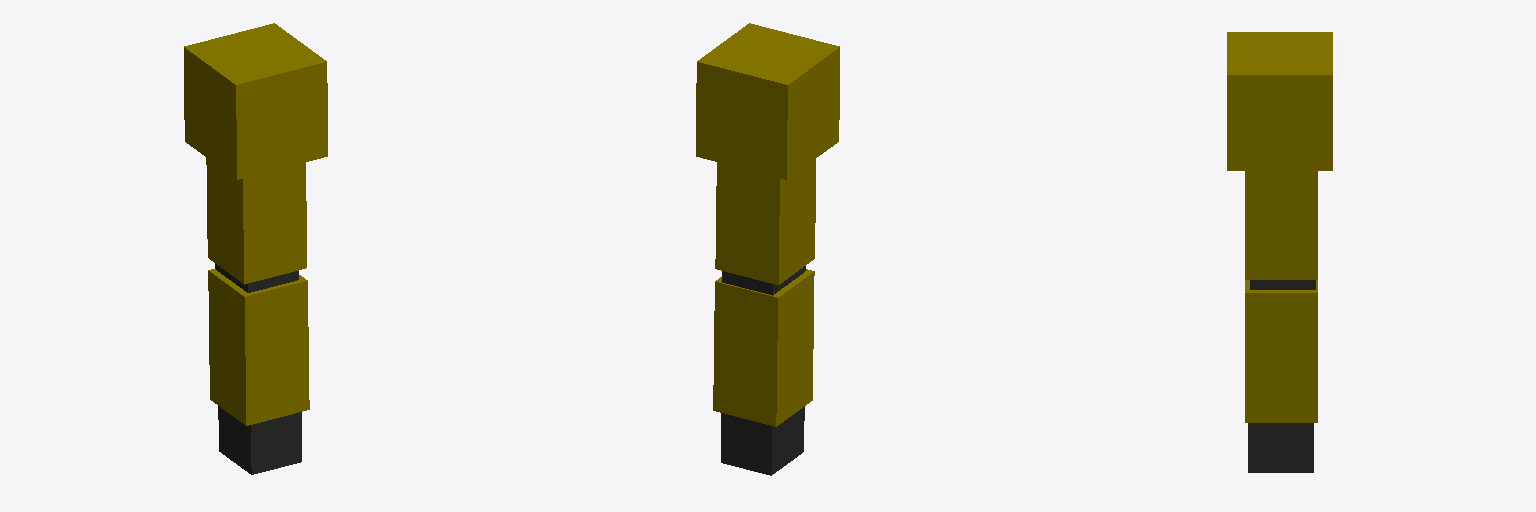
3 renders of one model, left to right at view 1: azimuth 30°, elevation 25°; view 2: azimuth 150°, elevation 25°; view 3: azimuth 270°, elevation 25°, orthographic.
Parts seen in each view (by area): view 1: RightArm; view 2: RightArm; view 3: RightArm.
Boxes of the visible parts, x1=… form: RightArm: x1=184, y1=23, x2=327, y2=474; RightArm: x1=696, y1=23, x2=839, y2=475; RightArm: x1=1227, y1=32, x2=1332, y2=472.
Bounding box in the file's own units: 0.3658 × 1.53 × 0.36.
1 materials, 1 textured.